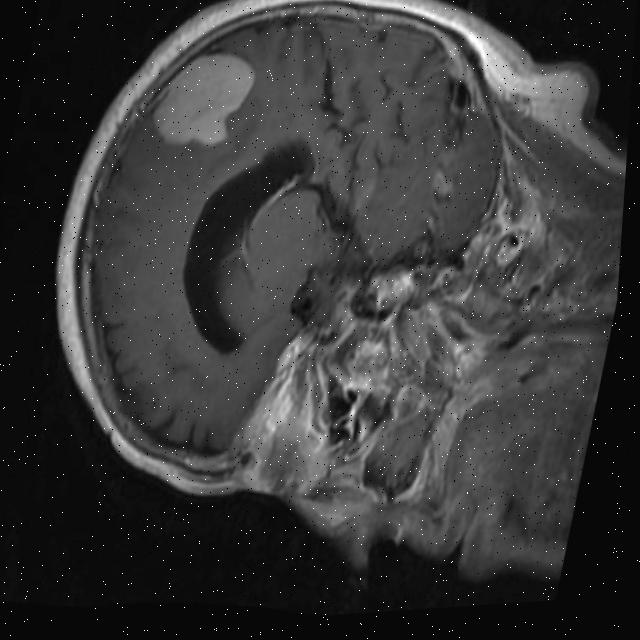Meningioma: (144, 42, 263, 156)
